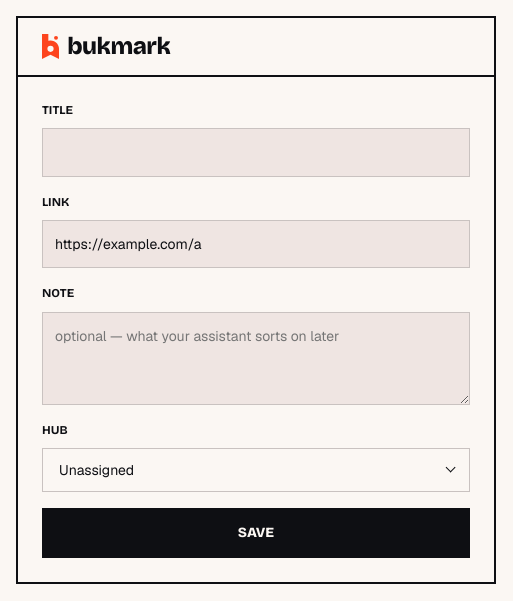
SavePage › sends only what was filled in, so saving again keeps an existing title and note
The width and height of the screenshot is (513, 601).
What coordinates should you click on to do the following:
click the button "Save"
I would click on:
 (256, 533)
Its box is [42,508,470,558].
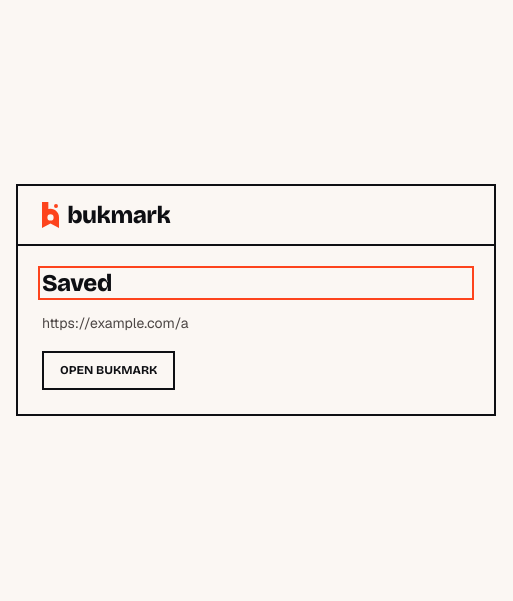
Check: the message "Saved" is shown, box [42,269,112,297]
